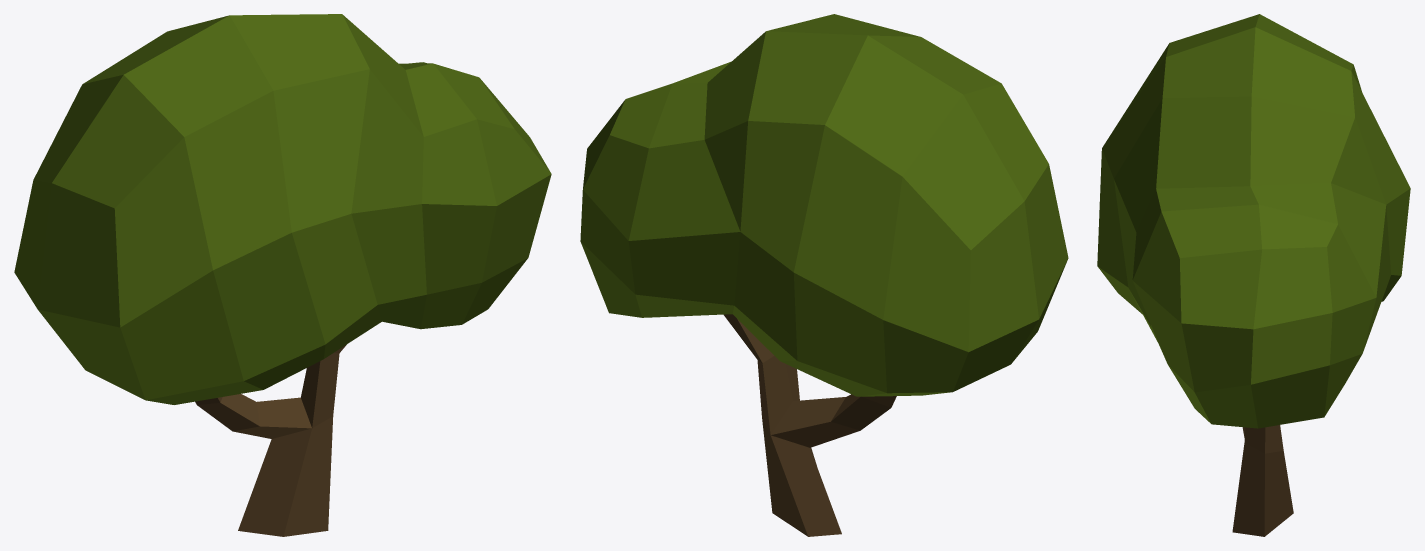
The model's file is TreesAndBushes_062.fbx.
The picture shows the model from 3 angles, left to right: view 1: azimuth 30°, elevation 25°; view 2: azimuth 150°, elevation 25°; view 3: azimuth 270°, elevation 25°; orthographic projection. The views are drawn at different scales.
Visible parts, largest first — view 1: TreesAndBushes_062; view 2: TreesAndBushes_062; view 3: TreesAndBushes_062.
Part boxes in pixels (<box>): TreesAndBushes_062: <box>14,14,551,536</box>; TreesAndBushes_062: <box>580,14,1068,536</box>; TreesAndBushes_062: <box>1097,14,1410,536</box>.
Size of the model in its own units: 155 by 160 by 96.88.
